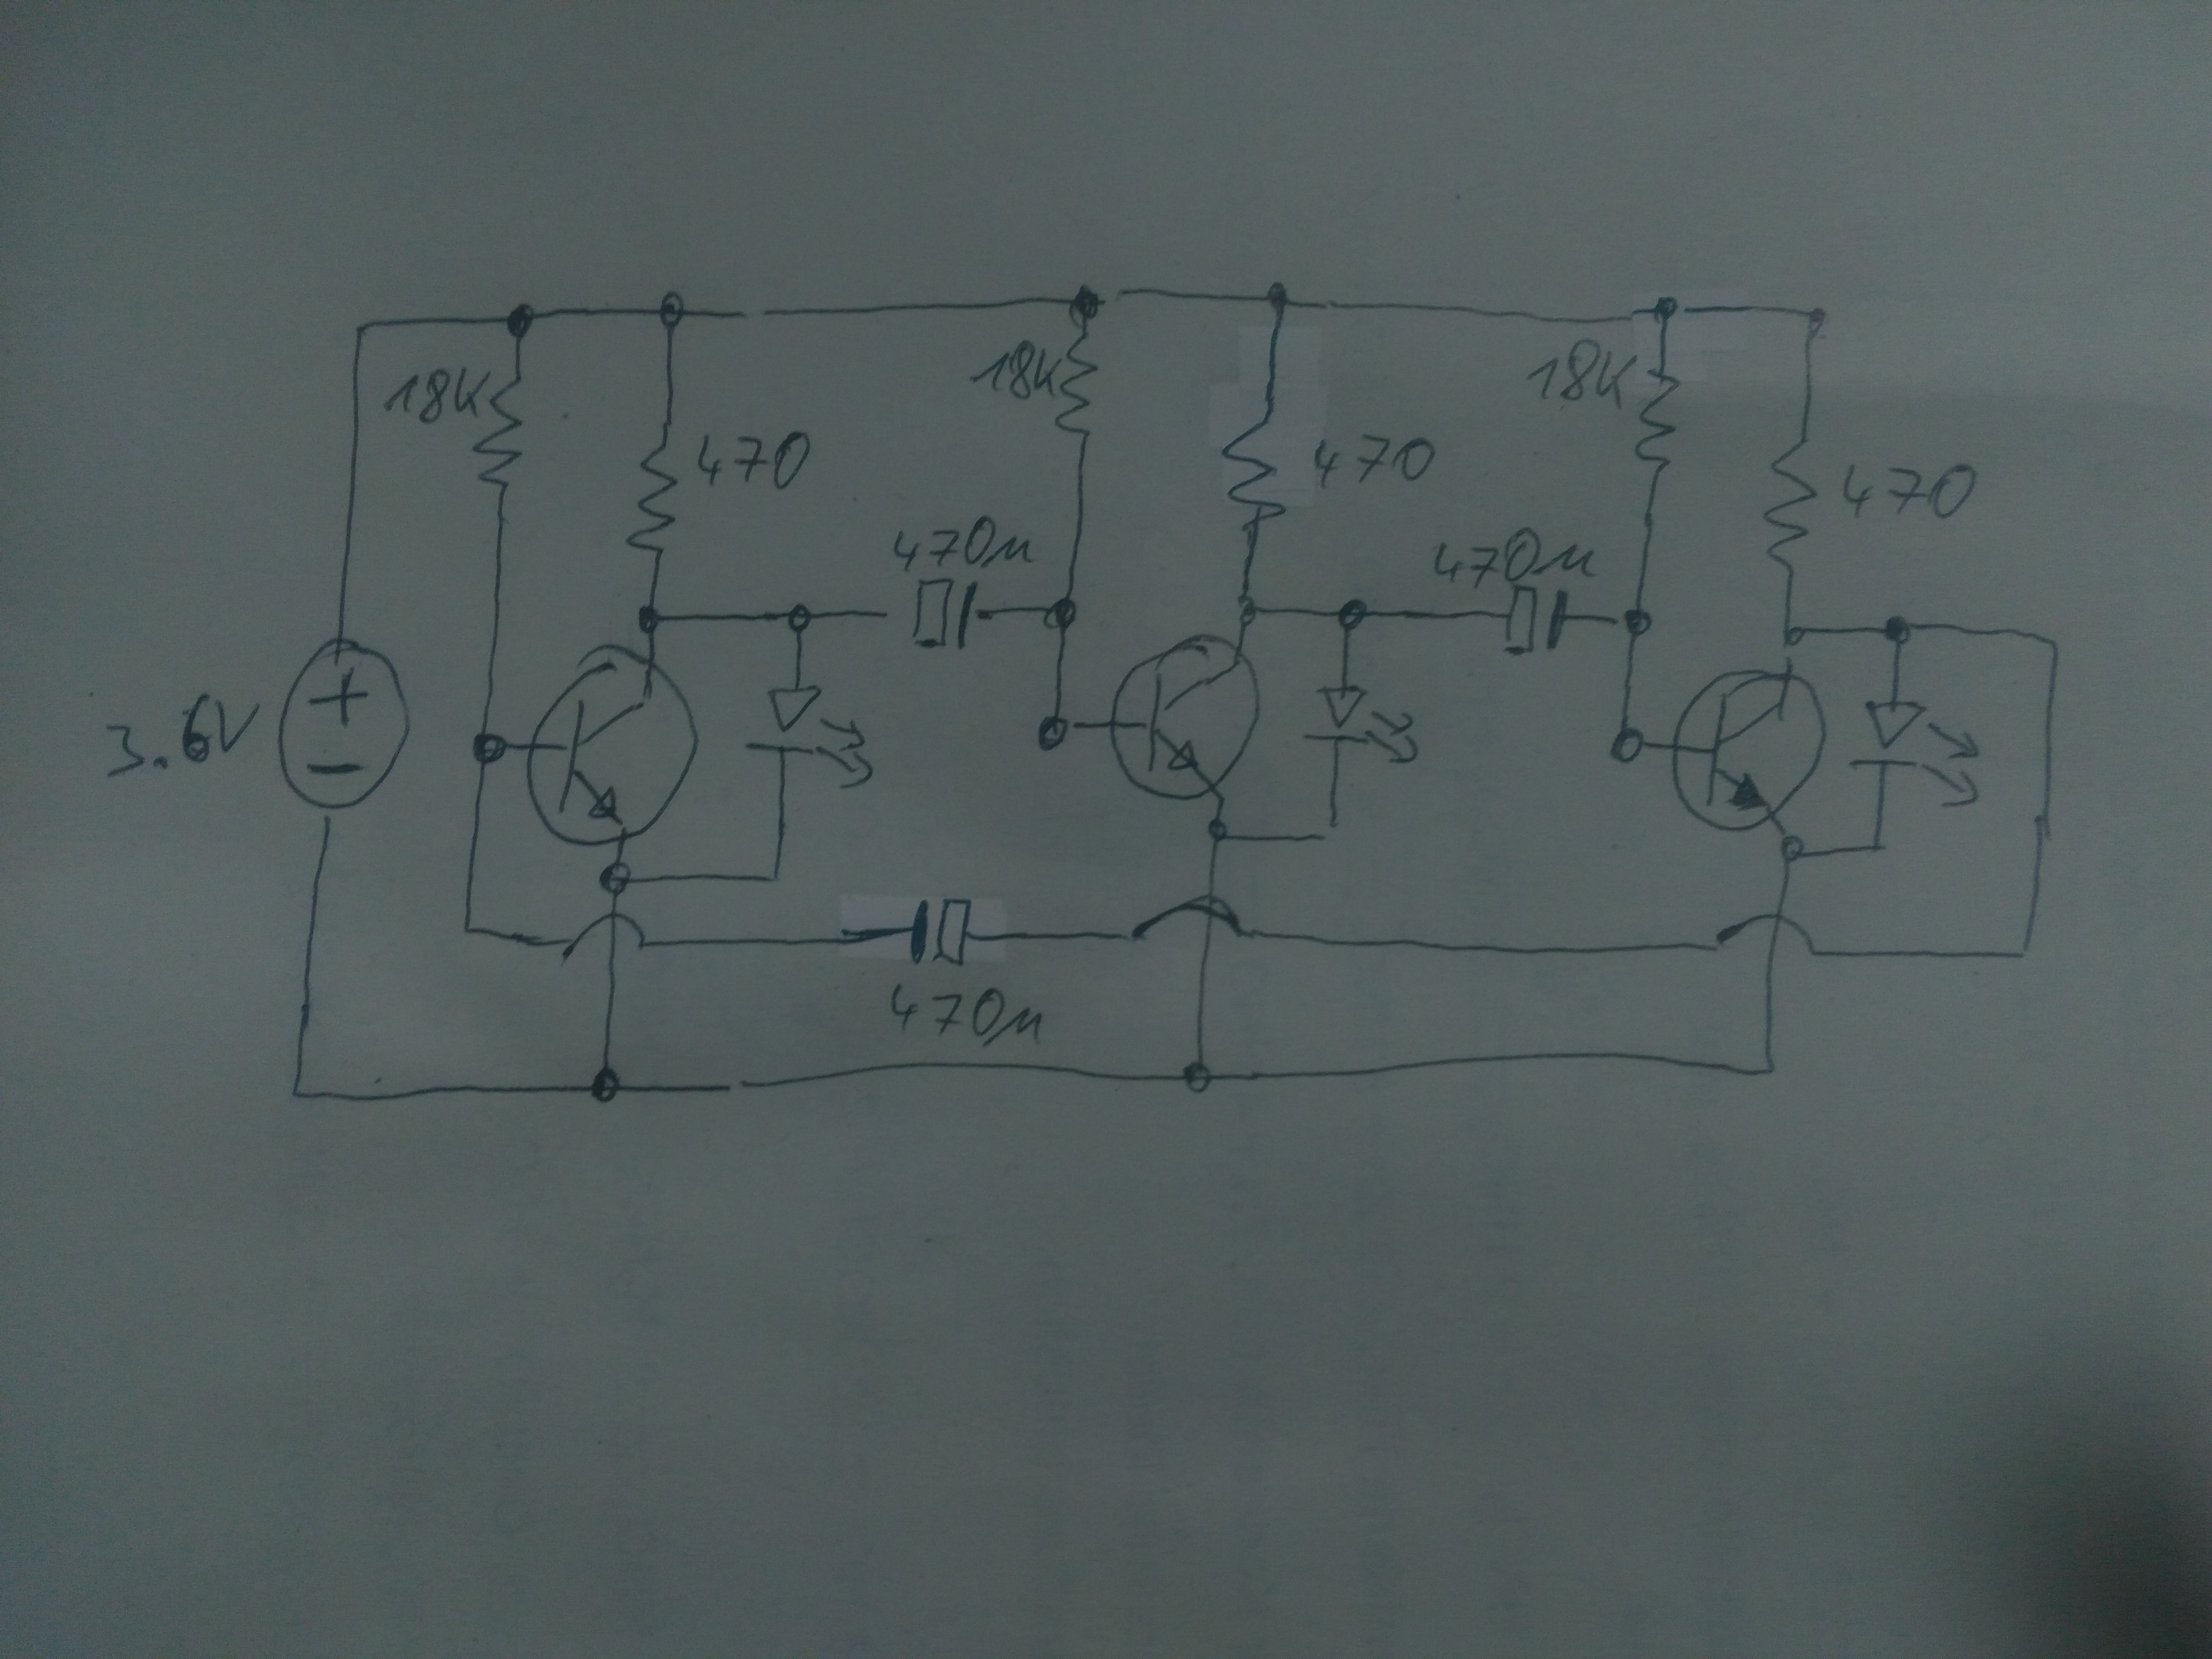capacitor.polarized: (909, 575, 981, 650), (1503, 584, 1571, 657), (907, 896, 975, 969)
crossover: (1118, 890, 1261, 950), (1705, 908, 1824, 964), (554, 906, 655, 965)
diode.light_emitting: (740, 681, 878, 795), (1846, 699, 1982, 809), (1301, 683, 1423, 767)
junction: (648, 288, 690, 331), (1033, 708, 1073, 753), (1064, 281, 1106, 322), (1606, 723, 1648, 765), (1177, 1054, 1217, 1096), (632, 599, 671, 641), (587, 1065, 624, 1107), (470, 728, 509, 767), (596, 857, 636, 894), (1331, 596, 1372, 631), (1043, 594, 1080, 633), (503, 300, 538, 340), (1620, 605, 1655, 641), (1797, 301, 1832, 336), (782, 599, 815, 636), (1879, 613, 1914, 647), (1263, 279, 1294, 314), (1777, 619, 1810, 650), (1235, 596, 1266, 627), (1649, 293, 1679, 326), (1777, 833, 1806, 866), (1200, 816, 1231, 845), (1754, 1053, 1785, 1082), (2034, 626, 2062, 657), (1317, 817, 1346, 845), (284, 1072, 310, 1103), (2010, 936, 2036, 965), (1864, 833, 1890, 861), (458, 917, 482, 943), (350, 315, 373, 343), (761, 863, 786, 887)
resistor: (1219, 411, 1291, 537), (1761, 434, 1820, 579), (470, 369, 528, 495), (622, 446, 681, 561), (1052, 328, 1101, 443), (1632, 366, 1683, 476)
text: (103, 688, 263, 781), (1430, 523, 1599, 592), (888, 979, 1047, 1053), (1841, 457, 1979, 525), (1526, 335, 1642, 411), (890, 512, 1036, 573), (1310, 430, 1437, 491), (695, 427, 812, 493), (380, 366, 493, 425), (967, 338, 1064, 403)
transistor: (521, 636, 702, 850), (1669, 666, 1831, 835), (1106, 631, 1264, 803)
voltage.dc: (272, 636, 416, 814)
